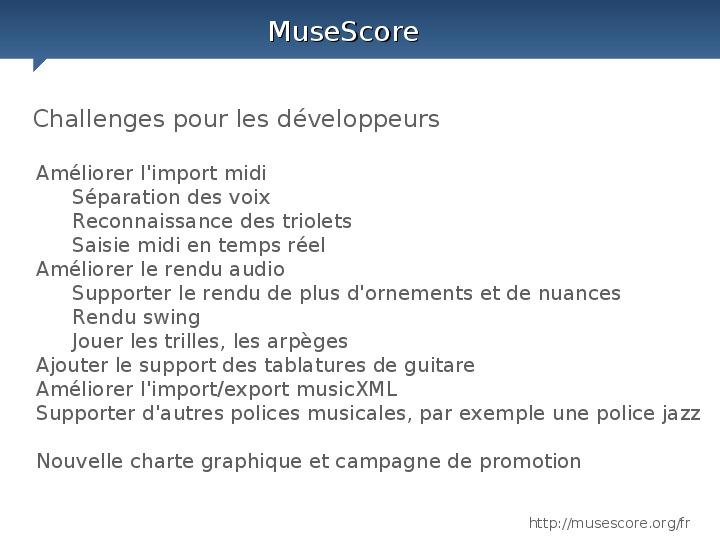paragraph: (15, 146, 720, 486)
subtitle: (255, 10, 423, 55)
title: (23, 94, 456, 136)
